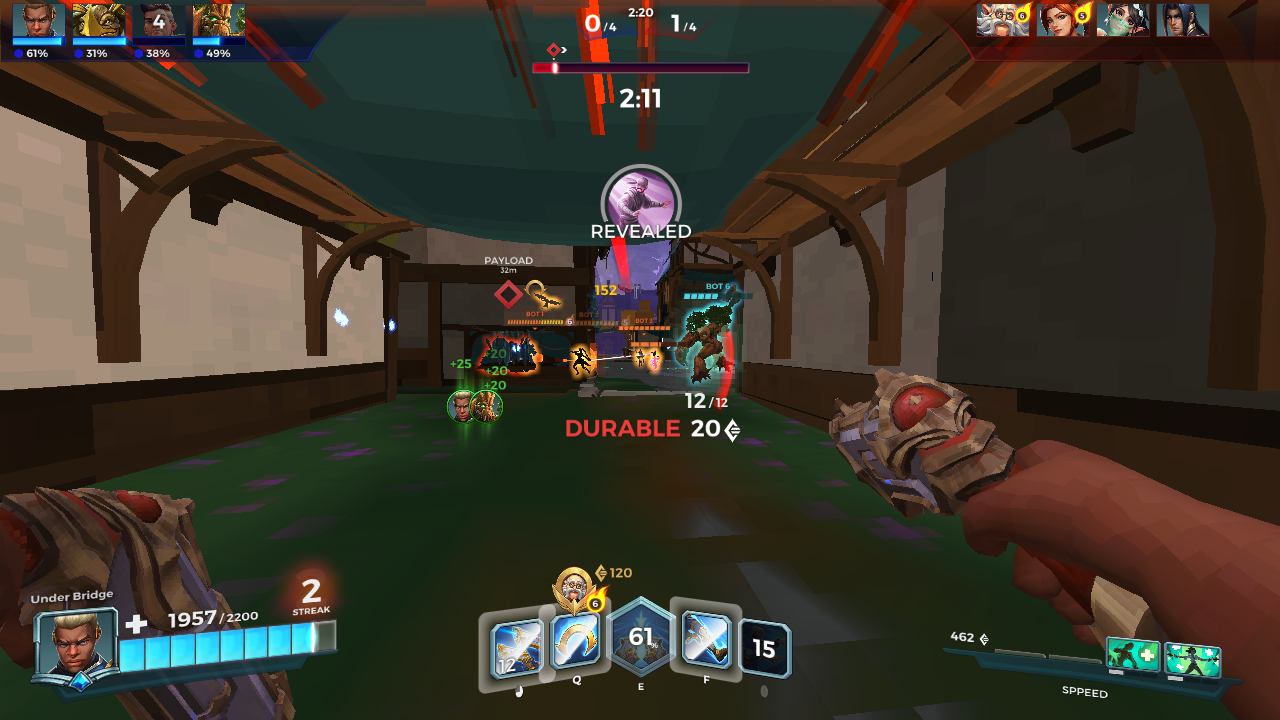model: (570, 343, 592, 377), (650, 346, 665, 369), (635, 349, 646, 373)
